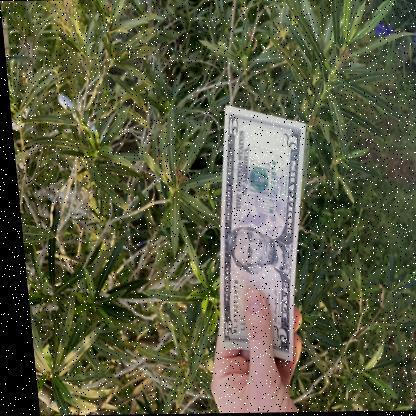dollar_front: (214, 104, 303, 362)
